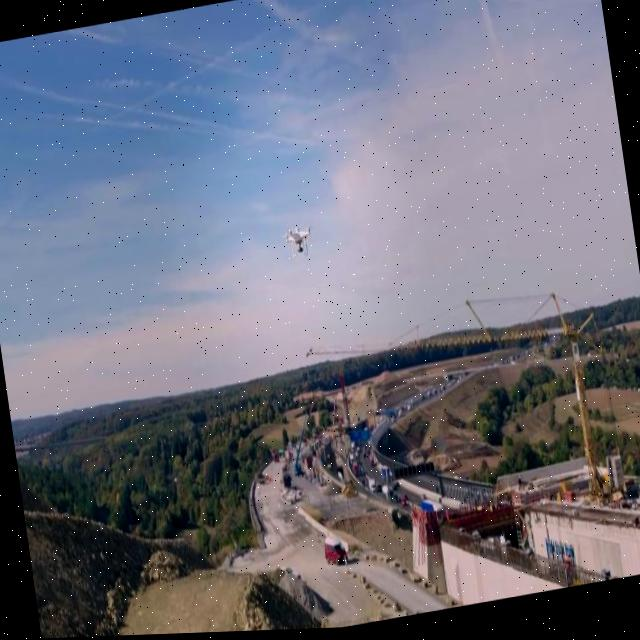drone: (279, 219, 319, 263)
